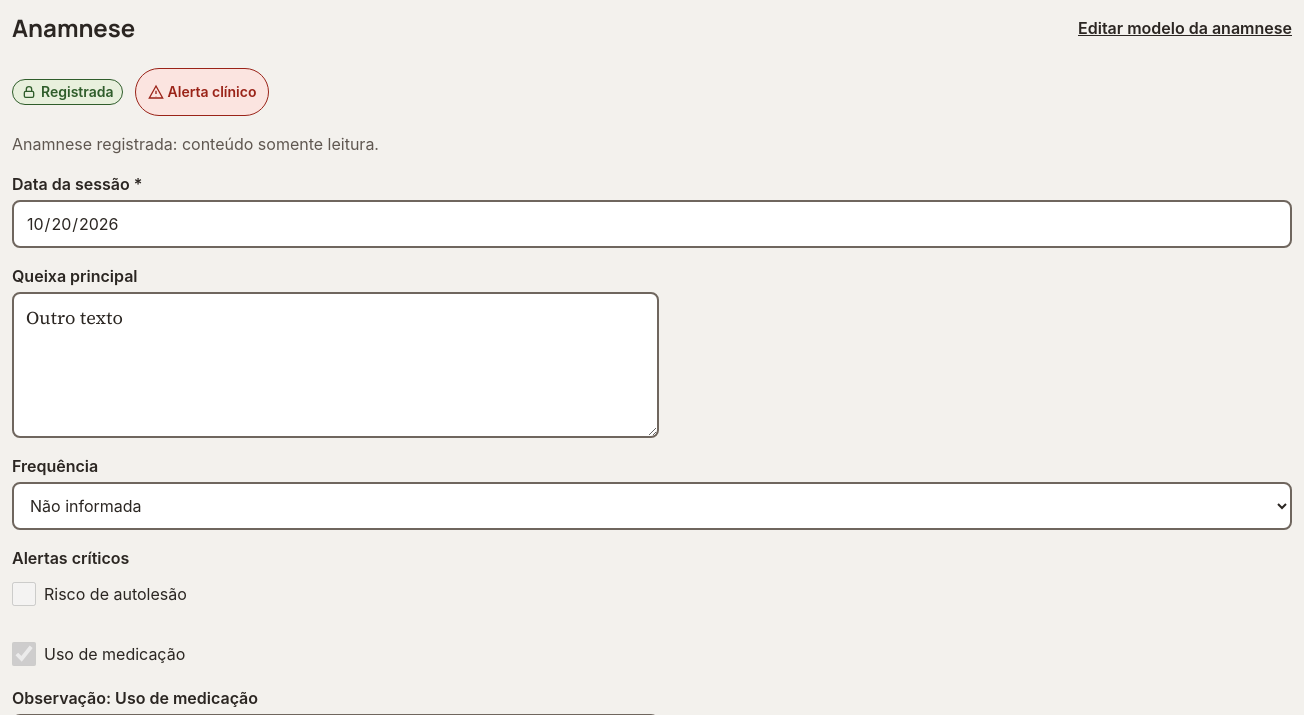
Test: Anamnese do paciente: selos e alerta clínico (ANA-09) › destaca o alerta clínico com os rótulos marcados na versão vigente
Click the button "Alerta clínico". click: point(202, 92)
box: [134,68,269,116]
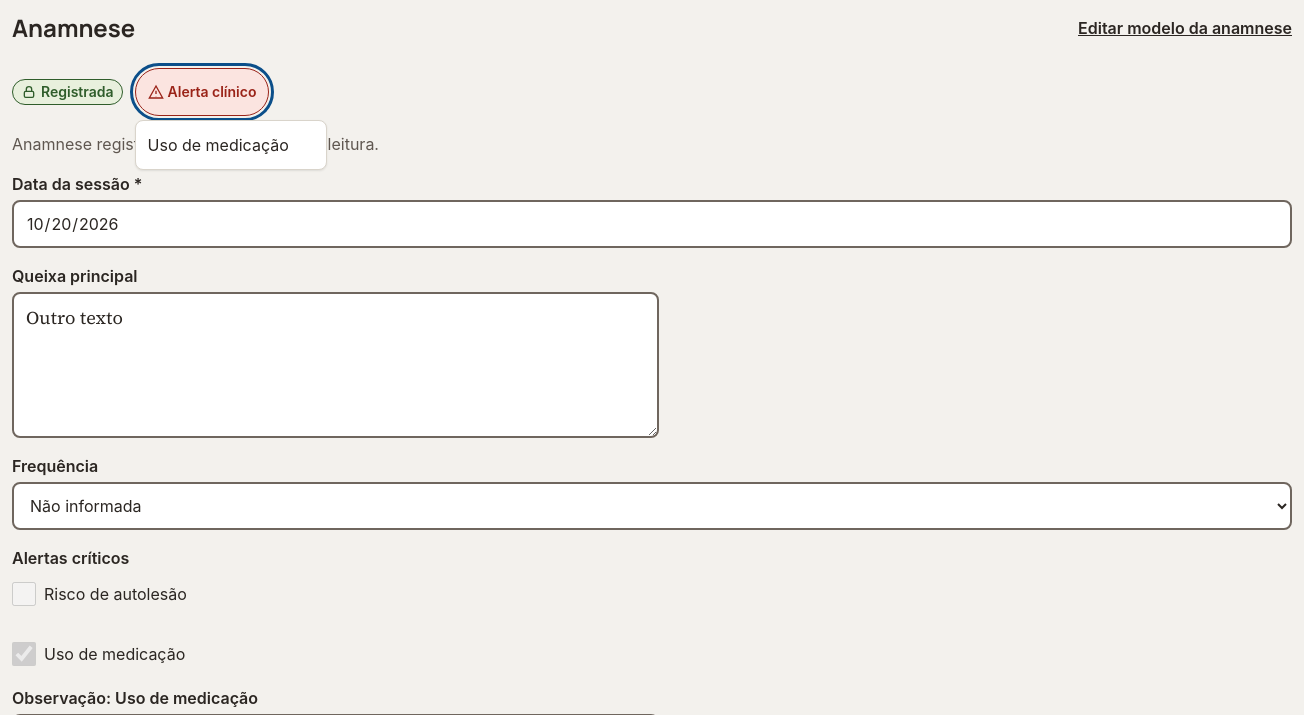
Result: the list item "Uso de medicação" is shown at [148,133,314,157]
